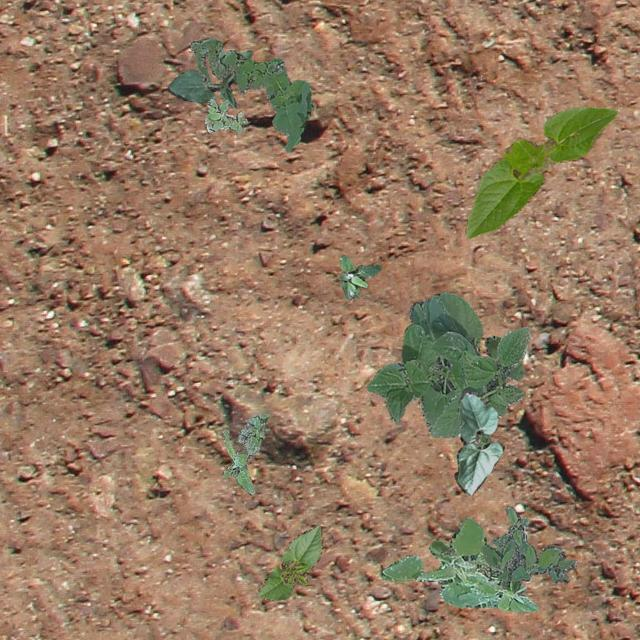crop: (366, 291, 524, 444), (464, 105, 616, 238), (428, 326, 530, 436), (454, 389, 504, 494), (254, 524, 322, 600), (166, 49, 252, 106)
weed: (382, 516, 536, 610), (188, 36, 312, 150), (481, 506, 576, 592), (220, 412, 268, 493), (336, 253, 381, 300), (204, 98, 246, 134)
